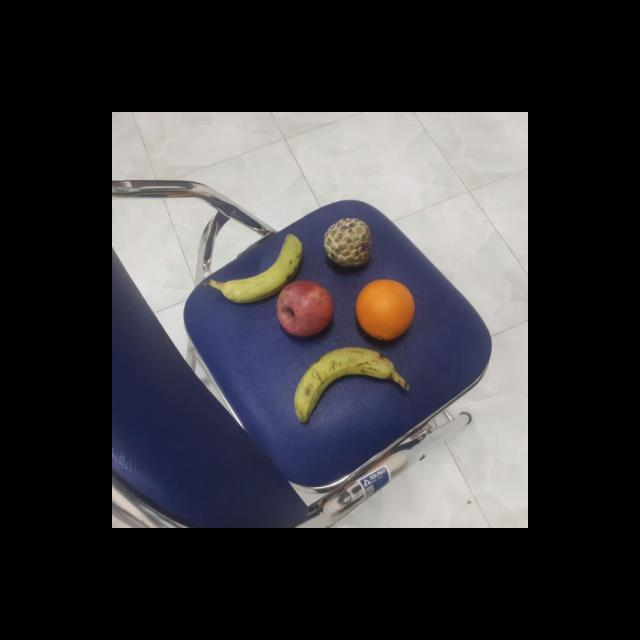Sakya fruit: (322, 216, 372, 271)
apple: (274, 278, 337, 338)
banana: (293, 343, 402, 424), (220, 230, 310, 304)
orange: (353, 274, 418, 344)
